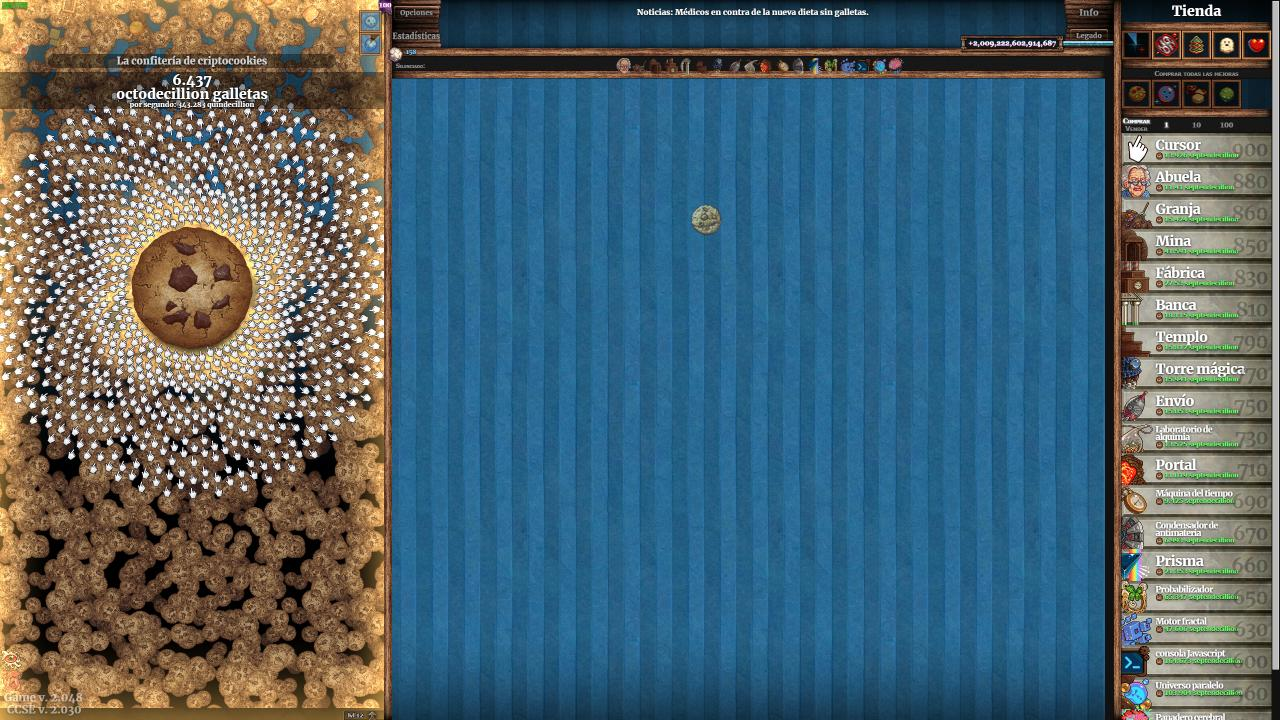GoldenCookie: (691, 204, 723, 236)
